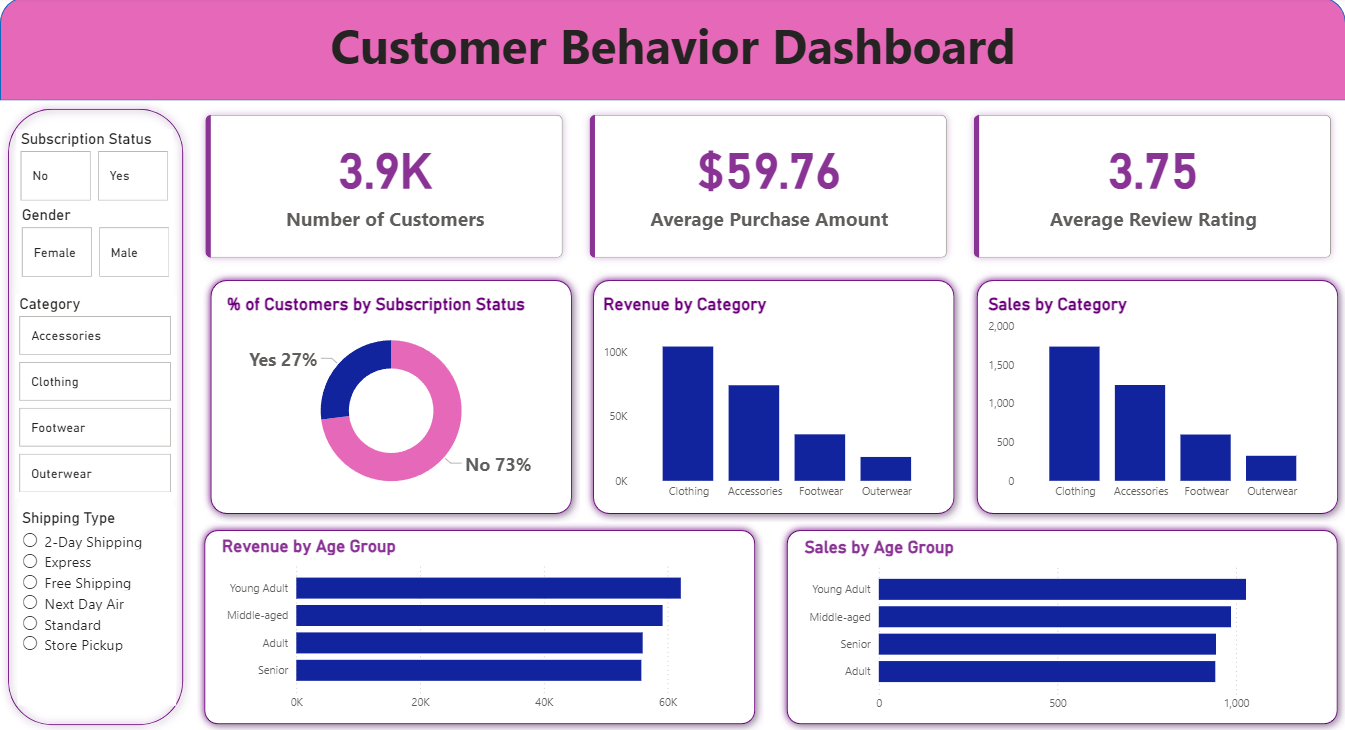

This screenshot's page, from the dashboard's own definition file:
{"tool":"powerbi","page":{"name":"Page 1","canvas":[1500,820],"ordinal":0},"visuals":[{"type":"cardVisual","fields":{"Data":["public customer.Number of Customers","public customer.Average Purchase Amount","public customer.Average Review Rating"]},"box":[212.9,115.3,1286.5,191.6],"z":2000},{"type":"shape","box":[218.3,585.6,631.7,234.2],"z":2500,"group":"g1"},{"type":"shape","box":[0,0,1499.4,115.3],"z":3000},{"type":"textbox","box":[0,12.4,1499.4,102.9],"z":4000},{"type":"shape","box":[225.4,307,420.5,278.6],"z":5000},{"type":"donutChart","title":"% of Customers by Subscription Status","fields":{"Category":["public customer.subscription_status"],"Y":["CountNonNull(public customer.customer_id)"]},"box":[248.4,331.8,376.2,237.8],"z":6000},{"type":"shape","box":[1078.9,307,420.5,278.6],"z":7000},{"type":"shape","box":[652.1,307,420.5,278.6],"z":8000},{"type":"clusteredColumnChart","title":"Revenue by Category","fields":{"Y":["Sum(public customer.purchase_amount)"],"Category":["public customer.category"]},"box":[667.2,331.8,385.1,237.8],"z":9000},{"type":"clusteredColumnChart","title":"Sales by Category","fields":{"Y":["CountNonNull(public customer.customer_id)"],"Category":["public customer.category"]},"box":[1096.6,331.8,385.1,237.8],"z":10000},{"type":"shape","box":[0,115.6,213.1,704.7],"z":11000},{"type":"advancedSlicerVisual","fields":{"Values":["public customer.subscription_status"]},"box":[18.1,147.6,174.1,85],"z":12000},{"type":"advancedSlicerVisual","fields":{"Values":["public customer.gender"]},"box":[19.5,232.6,174.1,85],"z":13000},{"type":"advancedSlicerVisual","fields":{"Values":["public customer.category"]},"box":[16.7,331.5,179.7,227],"z":14000},{"type":"listSlicer","fields":{"Values":["public customer.shipping_type"]},"box":[19.5,569.6,176.9,220],"z":15000},{"type":"shape","box":[867.7,585.6,631.7,234.2],"z":16000},{"type":"clusteredBarChart","title":"Sales by Age Group","fields":{"Y":["CountNonNull(public customer.customer_id)"],"Category":["public customer.age_group"]},"box":[890.8,601.5,585.6,204.1],"z":17000},{"type":"clusteredBarChart","title":"Revenue by Age Group","fields":{"Y":["Sum(public customer.purchase_amount)"],"Category":["public customer.age_group"]},"box":[241.4,601.6,585.6,204.1],"z":17500,"group":"g1"},{"type":"group","id":"g1","title":"Group 1","box":[218.3,585.6,631.7,234.2],"z":17501}]}

Visuals, with their boxes in screenshot pixels (x1, y1, x2, y2), scaled from the page's 1500x820 canvas onto the 1345x730 screenshot:
cardVisual - public customer.Number of Customers x public customer.Average Purchase Amount: rect(191, 103, 1344, 273)
shape: rect(196, 521, 762, 729)
shape: rect(0, 0, 1344, 103)
textbox: rect(0, 11, 1344, 103)
shape: rect(202, 273, 579, 521)
"% of Customers by Subscription Status" donutChart: rect(223, 295, 560, 507)
shape: rect(967, 273, 1344, 521)
shape: rect(585, 273, 962, 521)
"Revenue by Category" clusteredColumnChart: rect(598, 295, 944, 507)
"Sales by Category" clusteredColumnChart: rect(983, 295, 1329, 507)
shape: rect(0, 103, 191, 729)
advancedSlicerVisual - public customer.subscription_status: rect(16, 131, 172, 207)
advancedSlicerVisual - public customer.gender: rect(17, 207, 174, 283)
advancedSlicerVisual - public customer.category: rect(15, 295, 176, 497)
listSlicer - public customer.shipping_type: rect(17, 507, 176, 703)
shape: rect(778, 521, 1344, 729)
"Sales by Age Group" clusteredBarChart: rect(799, 535, 1324, 717)
"Revenue by Age Group" clusteredBarChart: rect(216, 536, 742, 717)
"Group 1" group: rect(196, 521, 762, 729)
